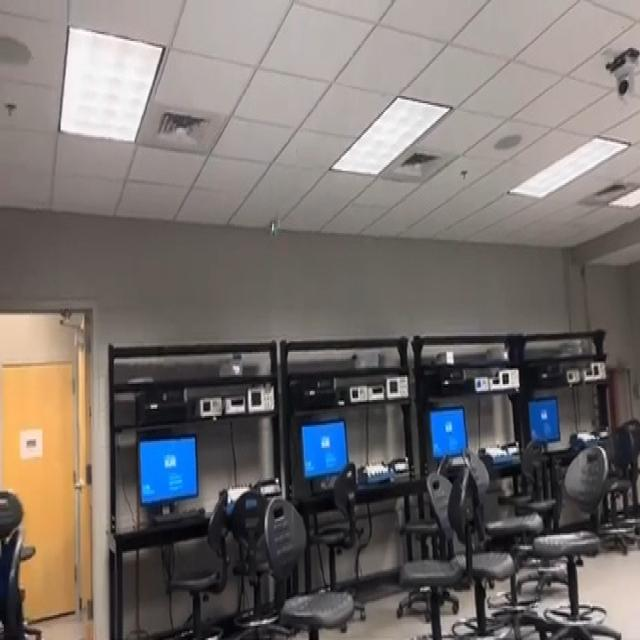drone: (254, 204, 290, 247)
